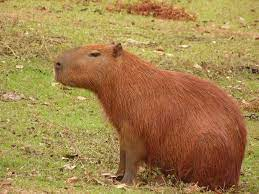capivara: (53, 42, 248, 194)
